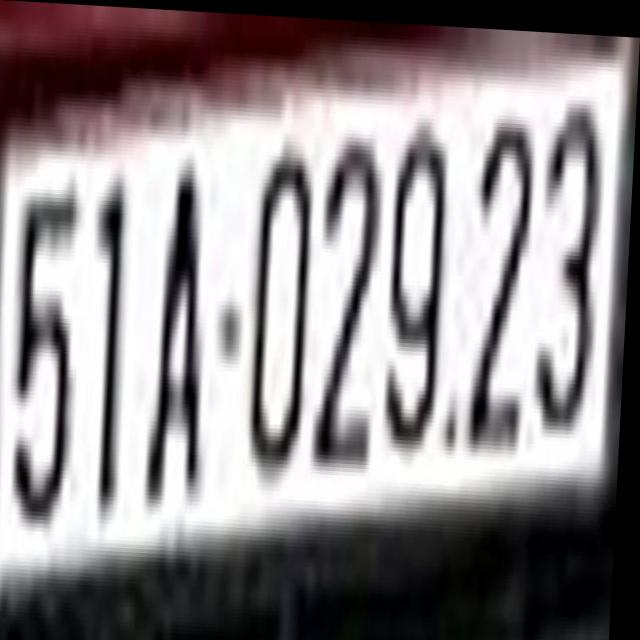0: (244, 113, 319, 500)
1: (91, 133, 142, 503)
2: (462, 96, 544, 448), (313, 120, 391, 461)
3: (535, 80, 604, 443)
5: (9, 172, 86, 520)
9: (385, 108, 453, 463)
A: (143, 124, 217, 507)
